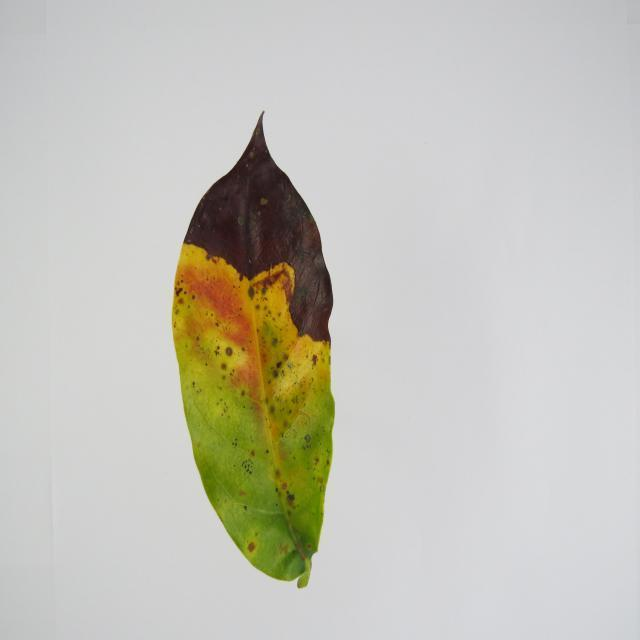DeficienciaNutricional-Fosforo: (172, 113, 335, 588)
